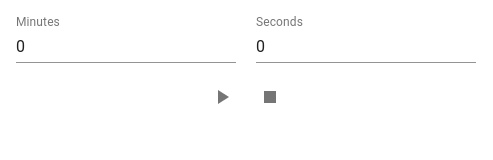
Scenario: toggles between playing and paused when the play/pause button is pressed
This screenshot has width=493, height=160.
Click the button named "play": click(222, 97) [198,73,246,121]
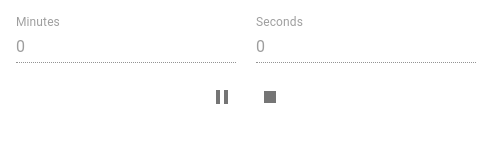
Now the button named "pause" is shown
Click the button named "pause": click(222, 97) [198,73,246,121]
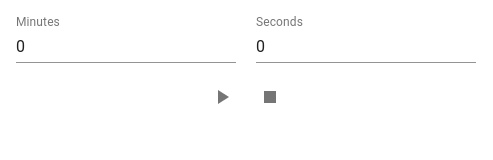
Now the button named "play" is shown, box [198,73,246,121]
